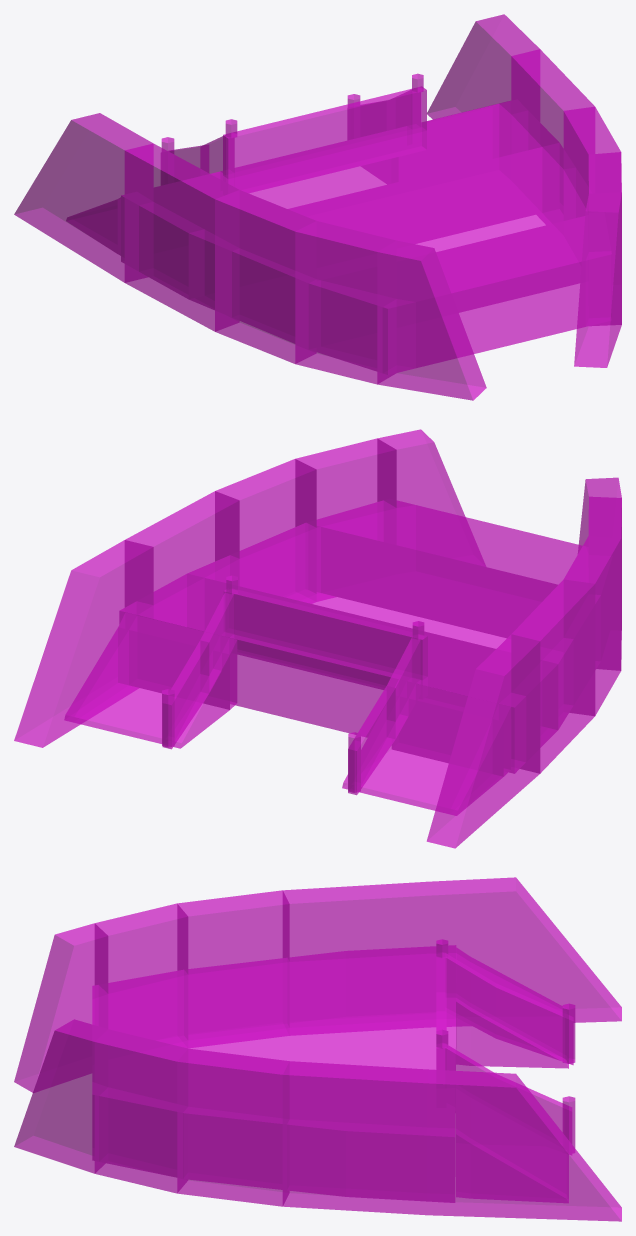
Rendered from SM_Veh_Ship_L_Front_01_Collision.fbx.
3 renders of one model, top to bottom at view 1: azimuth 30°, elevation 25°; view 2: azimuth 150°, elevation 25°; view 3: azimuth 270°, elevation 25°, orthographic.
Visible parts, largest first — view 1: SM_Veh_Ship_L_Front_01_Collision; view 2: SM_Veh_Ship_L_Front_01_Collision; view 3: SM_Veh_Ship_L_Front_01_Collision.
Boxes of the visible parts, x1,y1,x2,y2 form: SM_Veh_Ship_L_Front_01_Collision: (14,14,621,400); SM_Veh_Ship_L_Front_01_Collision: (14,429,621,848); SM_Veh_Ship_L_Front_01_Collision: (14,877,621,1221).
Bounding box in the file's own units: 1029 × 295 × 1234.
